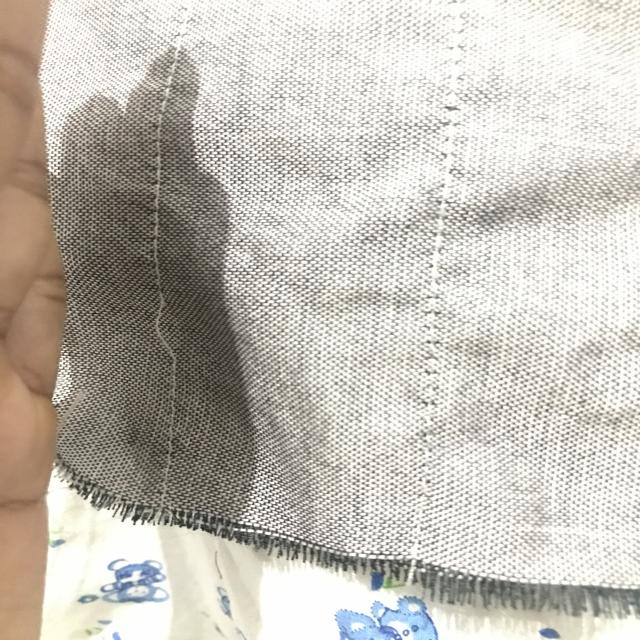skip: (139, 284, 190, 371)
